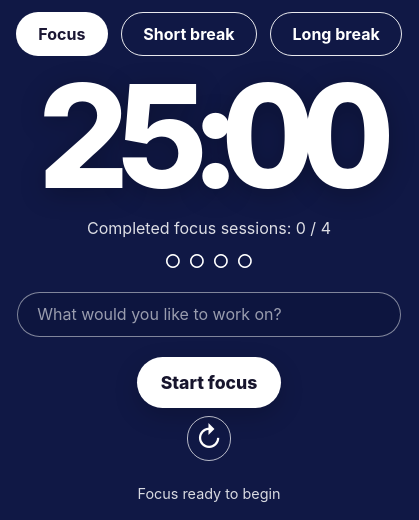
Scenario: TimerScreen › lets a user start a 25-minute focus timer and exposes pause
Expected: the text "25:00" is shown, [37,76,381,198]
What coordinates should you click on to do the following:
click the button "Start focus"
I would click on:
 (209, 382)
Its box is [137,357,281,408].
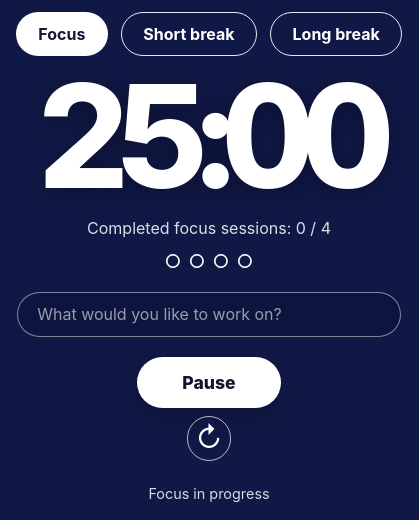
Expected: the button "Pause" is shown, [137,357,281,408]
